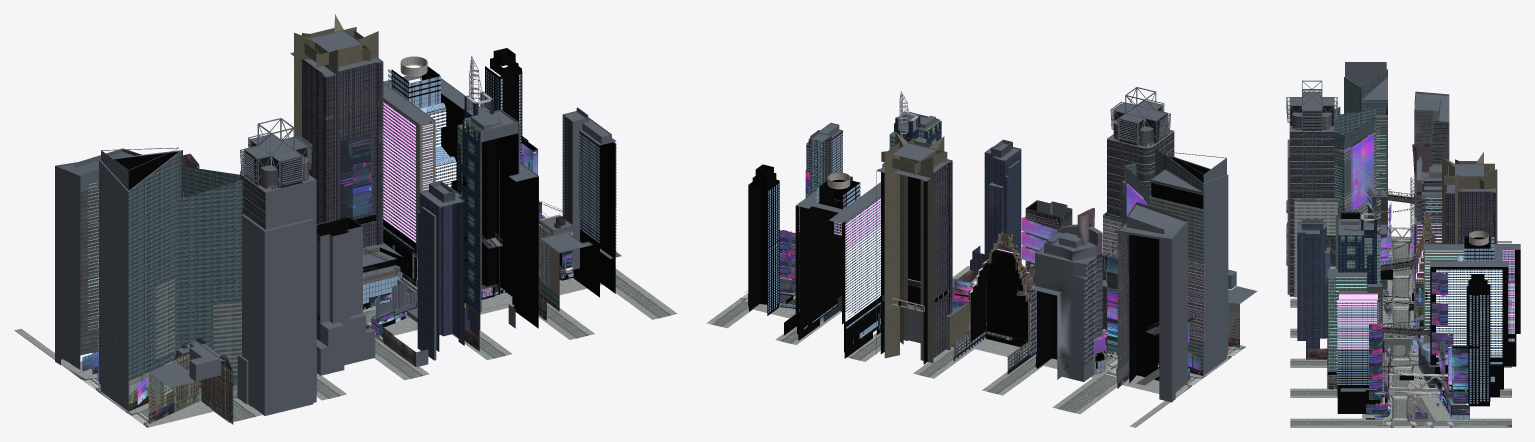
Rendered from city29.glb.
3 views of the same model, side by side, from view 1: azimuth 30°, elevation 25°; view 2: azimuth 150°, elevation 25°; view 3: azimuth 270°, elevation 25° (orthographic). The views are drawn at different scales.
Visible parts, largest first — view 1: Object_180, Object_138, Object_26, Object_180.002, Object_41, Object_180.001, Object_113, Object_104, Object_32, Object_17, Object_38, Object_44 (+7 smaller); view 2: Object_26, Object_180, Object_41, Object_104, Object_32, Object_44, Object_113, Object_17, Object_38, Object_180.001, Object_44.002, Object_186 (+7 smaller); view 3: Object_180, Object_17, Object_32, Object_41, Object_44, Object_26, Object_180.002, Object_38, Object_180.001, Object_44.001, Object_104, Object_11.033 (+29 smaller).
Boxes of the visible parts, <box> form: Object_180: <box>80,58,538,360</box>; Object_138: <box>237,56,518,415</box>; Object_26: <box>114,66,615,328</box>; Object_180.002: <box>175,166,251,406</box>; Object_41: <box>92,14,491,424</box>; Object_180.001: <box>114,150,182,404</box>; Object_113: <box>99,147,396,411</box>; Object_104: <box>55,30,382,369</box>; Object_32: <box>14,214,677,427</box>; Object_17: <box>363,66,616,342</box>; Object_38: <box>59,118,315,381</box>; Object_44: <box>355,48,536,309</box>; Object_26: <box>749,156,1209,383</box>; Object_180: <box>882,111,1187,370</box>; Object_41: <box>827,101,1239,388</box>; Object_104: <box>876,142,1187,402</box>; Object_32: <box>706,266,1245,427</box>; Object_44: <box>748,164,900,358</box>; Object_113: <box>880,152,1257,375</box>; Object_17: <box>768,133,1107,373</box>; Object_38: <box>1107,87,1236,289</box>; Object_180.001: <box>1149,154,1210,370</box>; Object_44.002: <box>834,222,880,321</box>; Object_186: <box>823,250,1200,380</box>; Object_180: <box>1289,92,1495,371</box>; Object_17: <box>1337,237,1514,419</box>; Object_32: <box>1290,241,1511,427</box>; Object_41: <box>1286,106,1514,343</box>; Object_44: <box>1418,250,1520,404</box>; Object_26: <box>1326,103,1502,413</box>; Object_180.002: <box>1334,107,1376,223</box>; Object_38: <box>1286,77,1448,267</box>; Object_180.001: <box>1344,69,1387,232</box>; Object_44.001: <box>1436,270,1502,357</box>; Object_104: <box>1387,91,1495,287</box>; Object_11.033: <box>1339,133,1373,210</box>.
Bounding box in the file's own units: 29.8 × 20.82 × 15.74.
31 materials, 16 textured.
